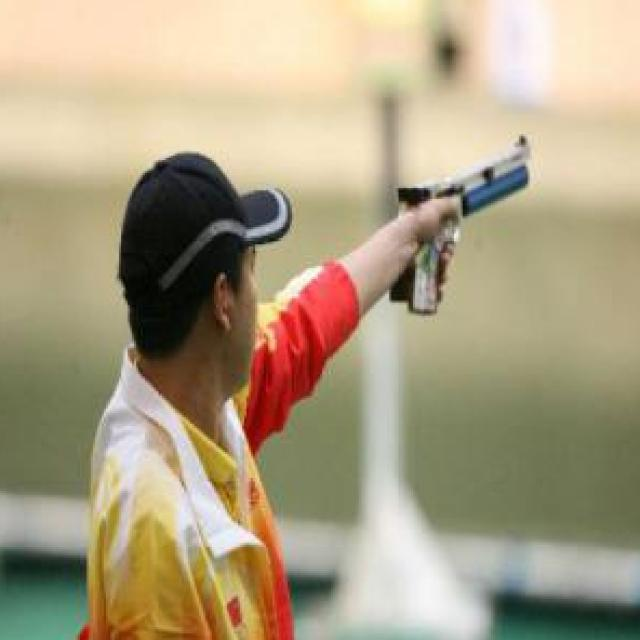pistol: (387, 134, 532, 321)
